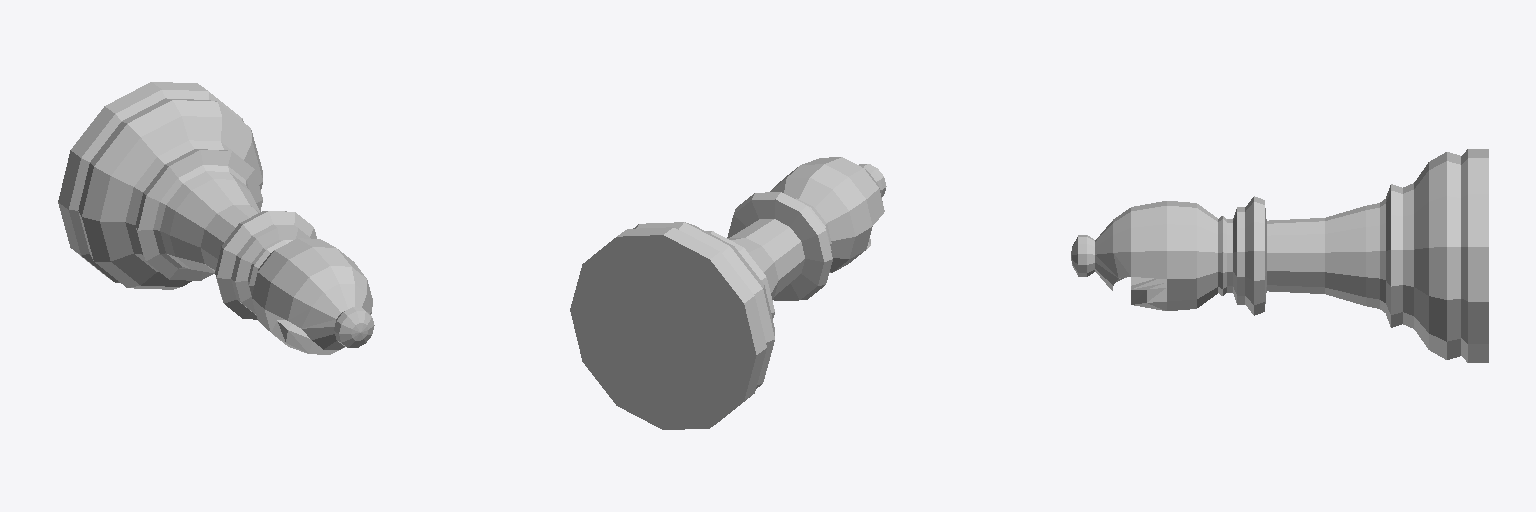
The model's file is Bishop.obj.
The picture shows the model from 3 angles: view 1: azimuth 30°, elevation 25°; view 2: azimuth 150°, elevation 25°; view 3: azimuth 270°, elevation 25°; orthographic projection.
Parts seen in each view (by area): view 1: Bishop PiezasAjedrez:Mesh; view 2: Bishop PiezasAjedrez:Mesh; view 3: Bishop PiezasAjedrez:Mesh.
Part boxes in pixels (left/top/right/bottom): Bishop PiezasAjedrez:Mesh: left=58, top=82, right=374, bottom=354; Bishop PiezasAjedrez:Mesh: left=570, top=157, right=886, bottom=429; Bishop PiezasAjedrez:Mesh: left=1071, top=149, right=1488, bottom=362.
Size of the model in its own units: 3.78 by 3.78 by 7.35.